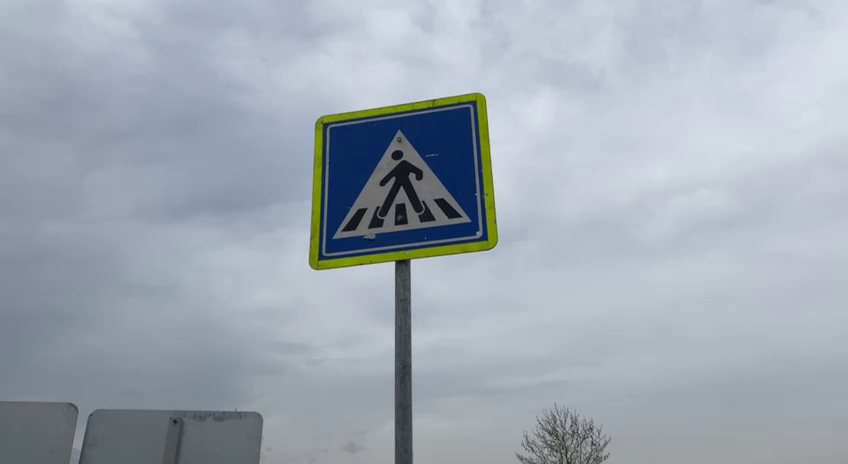pedestrianCrossing: (306, 88, 499, 274)
